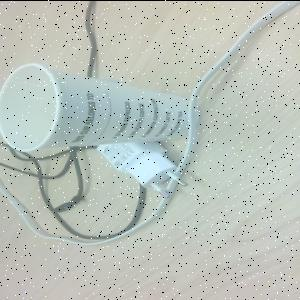Cup: (2, 63, 200, 153)
